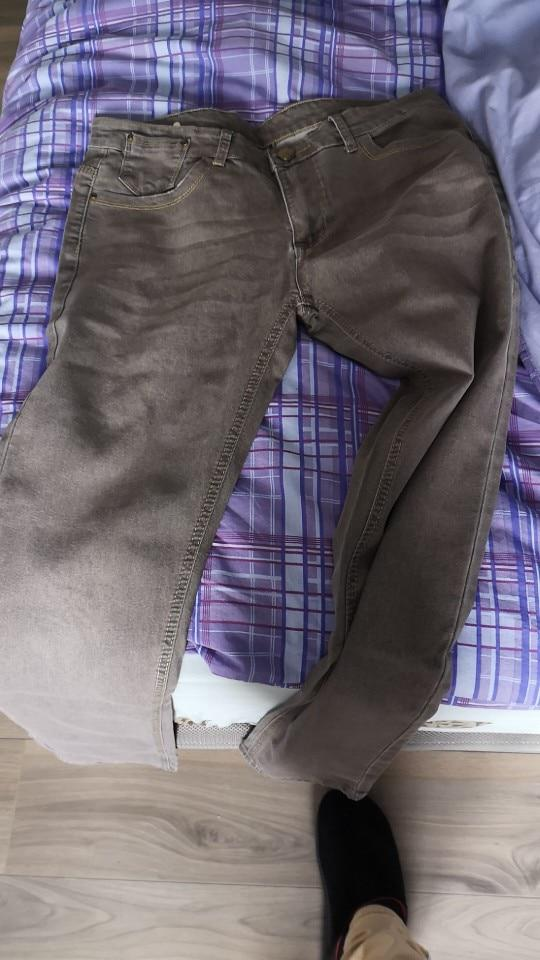jeans: (35, 98, 497, 765)
